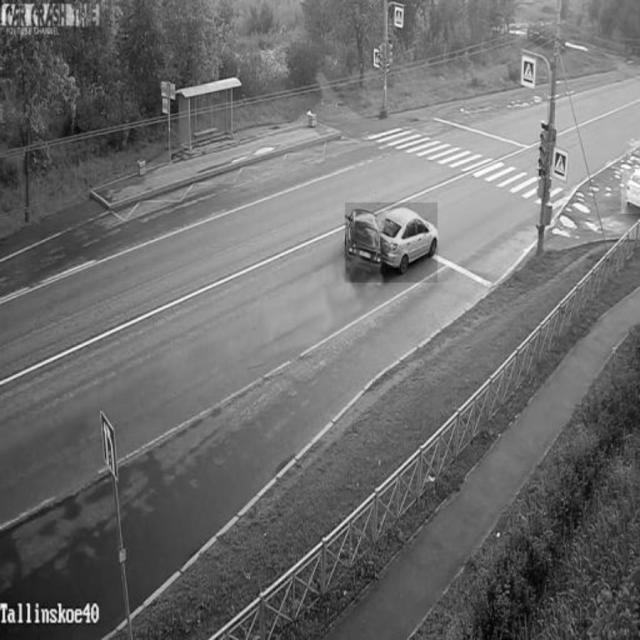accident: (345, 203, 438, 283)
vehicle: (621, 166, 640, 213)
